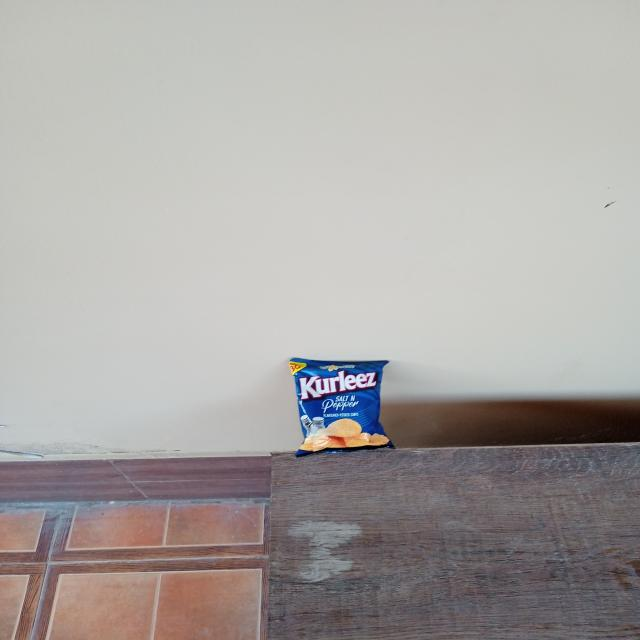Plastic: (300, 357, 388, 451)
